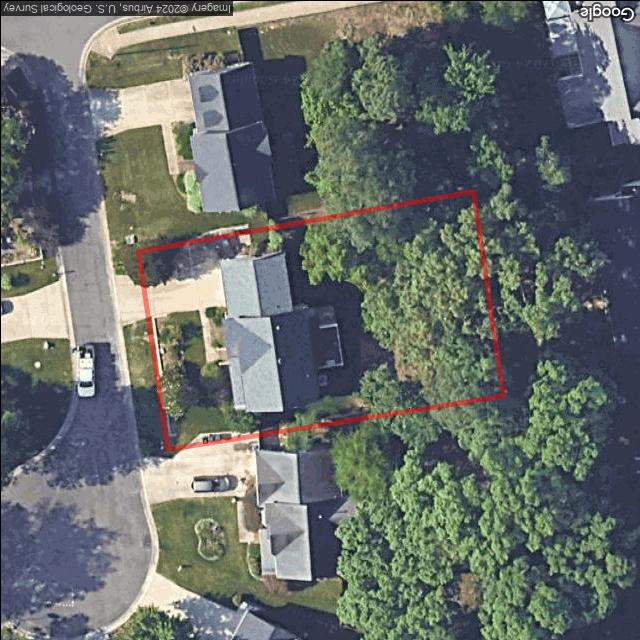Driveway: (141, 230, 252, 316)
Extra-Driveway: (114, 269, 146, 325), (178, 222, 251, 244)
Extra-Lawn: (122, 317, 169, 455), (111, 249, 140, 275)
House: (220, 250, 324, 412)
Lawn: (138, 191, 501, 450)
Other: (149, 313, 197, 436), (304, 301, 344, 369), (205, 366, 233, 414), (207, 307, 224, 347)
Sidewalk: (199, 307, 225, 363)
